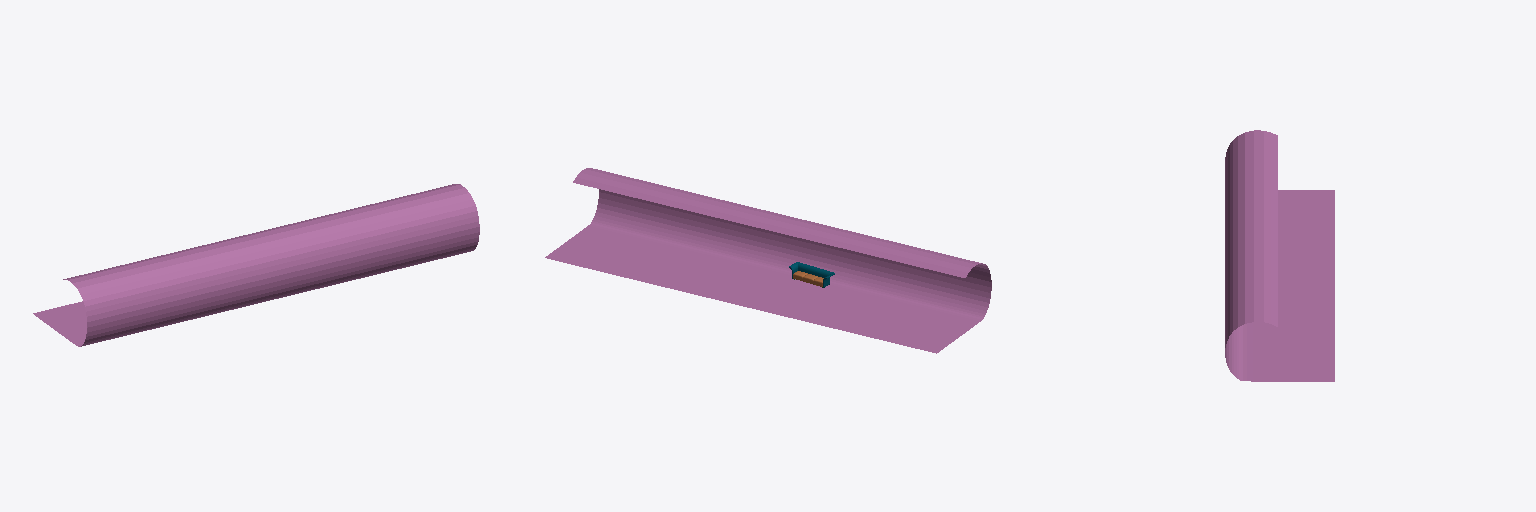
File: seetle.obj
The picture shows the model from 3 angles: view 1: azimuth 30°, elevation 25°; view 2: azimuth 150°, elevation 25°; view 3: azimuth 270°, elevation 25°; orthographic projection.
Visible parts, largest first — view 1: Fob; view 2: Fob; view 3: Fob.
Boxes of the visible parts, x1=… form: Fob: x1=33, y1=184, x2=479, y2=346; Fob: x1=545, y1=168, x2=991, y2=353; Fob: x1=1225, y1=130, x2=1334, y2=381.
Bounding box in the file's own units: 26413 × 3825 × 6392.